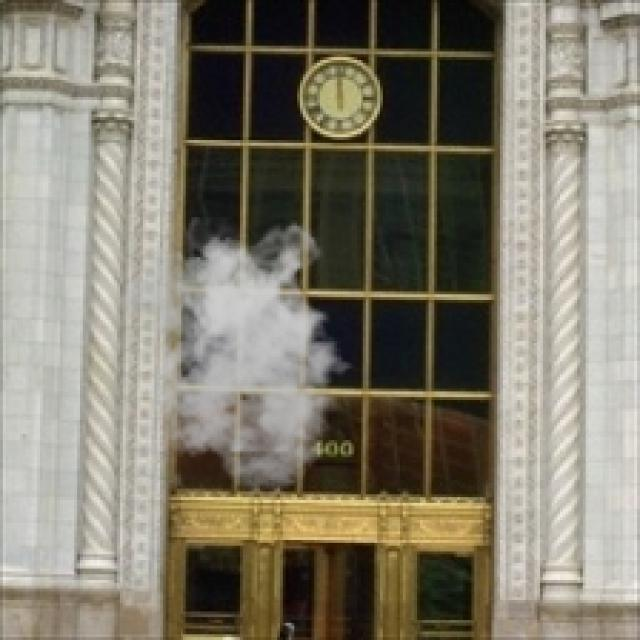smoke: (123, 217, 363, 492)
